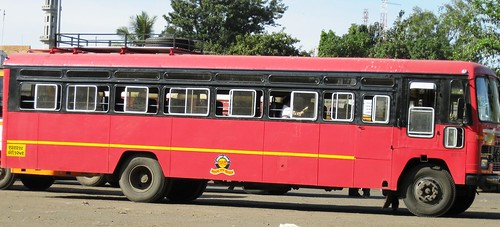bus: (1, 45, 500, 217)
